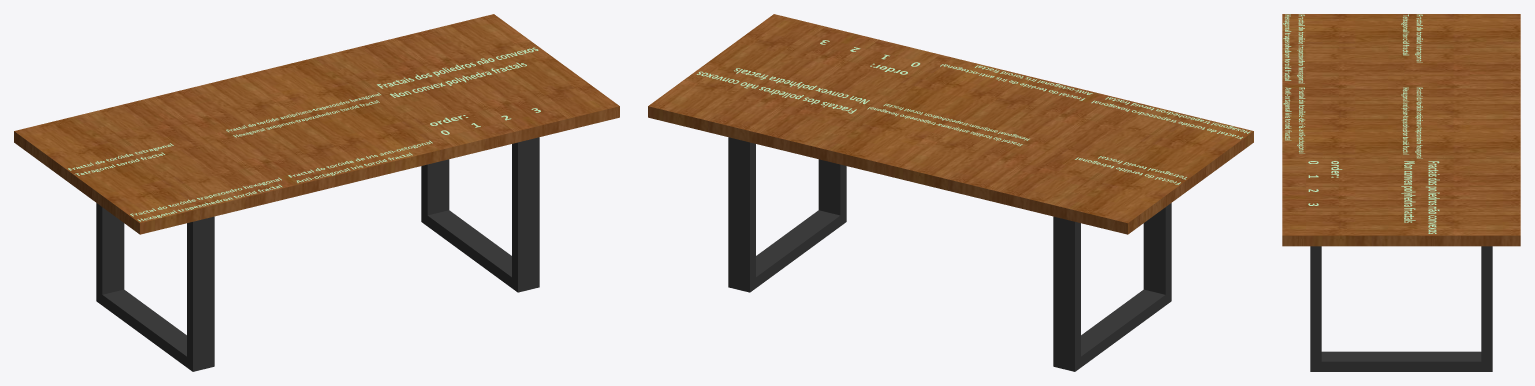
Rendered from fractal_nonconvex7a.glb.
3 renders of one model, left to right at view 1: azimuth 30°, elevation 25°; view 2: azimuth 150°, elevation 25°; view 3: azimuth 270°, elevation 25°, orthographic. The views are drawn at different scales.
Visible parts, largest first — view 1: object 1, Composant#1 (×2), Fractais dos pol#1, Fractal do torói#1, Fractal do torói#2, Fractal do torói; view 2: object 1, Composant#1 (×2), Fractais dos pol#1, Fractal do torói#1, Fractal do torói#2, Fractal do torói; view 3: object 1, Composant#1, Fractais dos pol#1, Fractal do torói#1, Fractal do torói#2, Fractal do torói, Fractal do torói#3.
Boxes of the visible parts, <box> form: object 1: <box>14,14,619,234</box>; Composant#1 (×2): <box>96,137,539,371</box>; Fractais dos pol#1: <box>377,47,538,97</box>; Fractal do torói#1: <box>226,92,380,137</box>; Fractal do torói#2: <box>130,177,282,221</box>; Fractal do torói: <box>288,140,432,182</box>; object 1: <box>648,14,1253,234</box>; Composant#1 (×2): <box>728,137,1171,371</box>; Fractais dos pol#1: <box>696,68,869,113</box>; Fractal do torói#1: <box>867,103,1029,146</box>; Fractal do torói#2: <box>1091,97,1250,139</box>; Fractal do torói: <box>940,64,1092,100</box>; object 1: <box>1282,14,1520,246</box>; Composant#1: <box>1310,246,1492,371</box>; Fractais dos pol#1: <box>1401,161,1439,233</box>; Fractal do torói#1: <box>1401,87,1422,158</box>; Fractal do torói#2: <box>1283,14,1304,83</box>; Fractal do torói: <box>1283,87,1305,153</box>; Fractal do torói#3: <box>1401,14,1422,62</box>.
Bounding box in the file's own units: 2.2 × 0.7711 × 1.
Materials: 3 (1 with a texture image).
